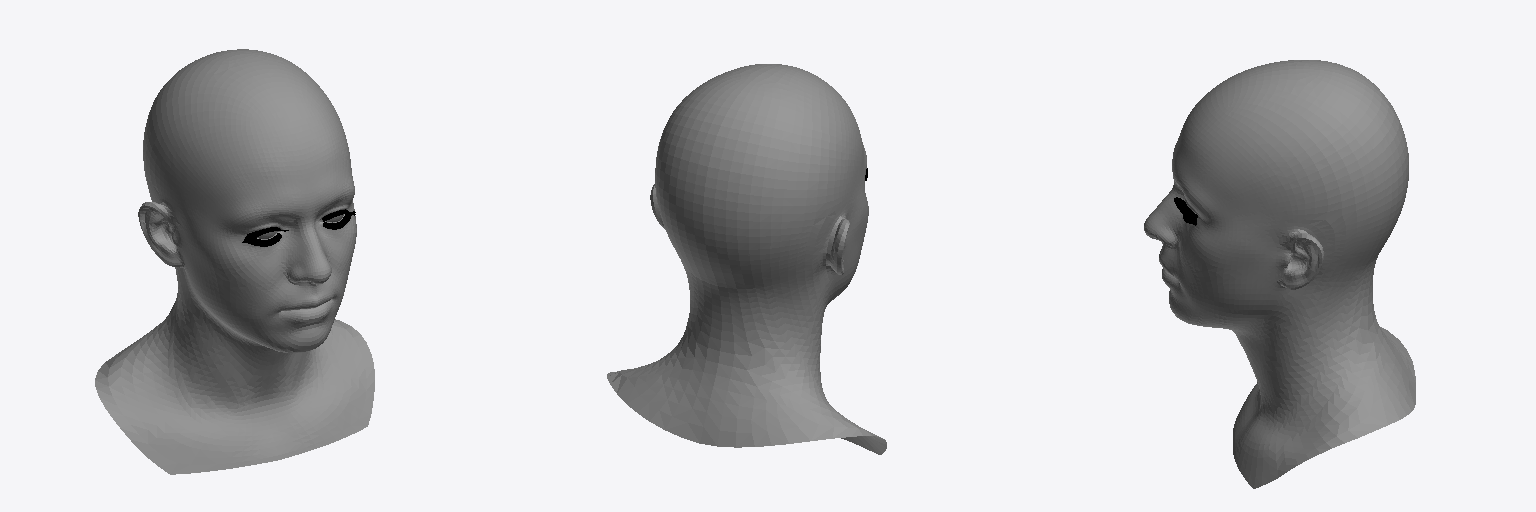
Rendered from PupilDilate_R.obj.
The picture shows the model from 3 angles: view 1: azimuth 30°, elevation 25°; view 2: azimuth 150°, elevation 25°; view 3: azimuth 270°, elevation 25°; orthographic projection.
Bounding box in the file's own units: 24.83 × 33.81 × 22.32.